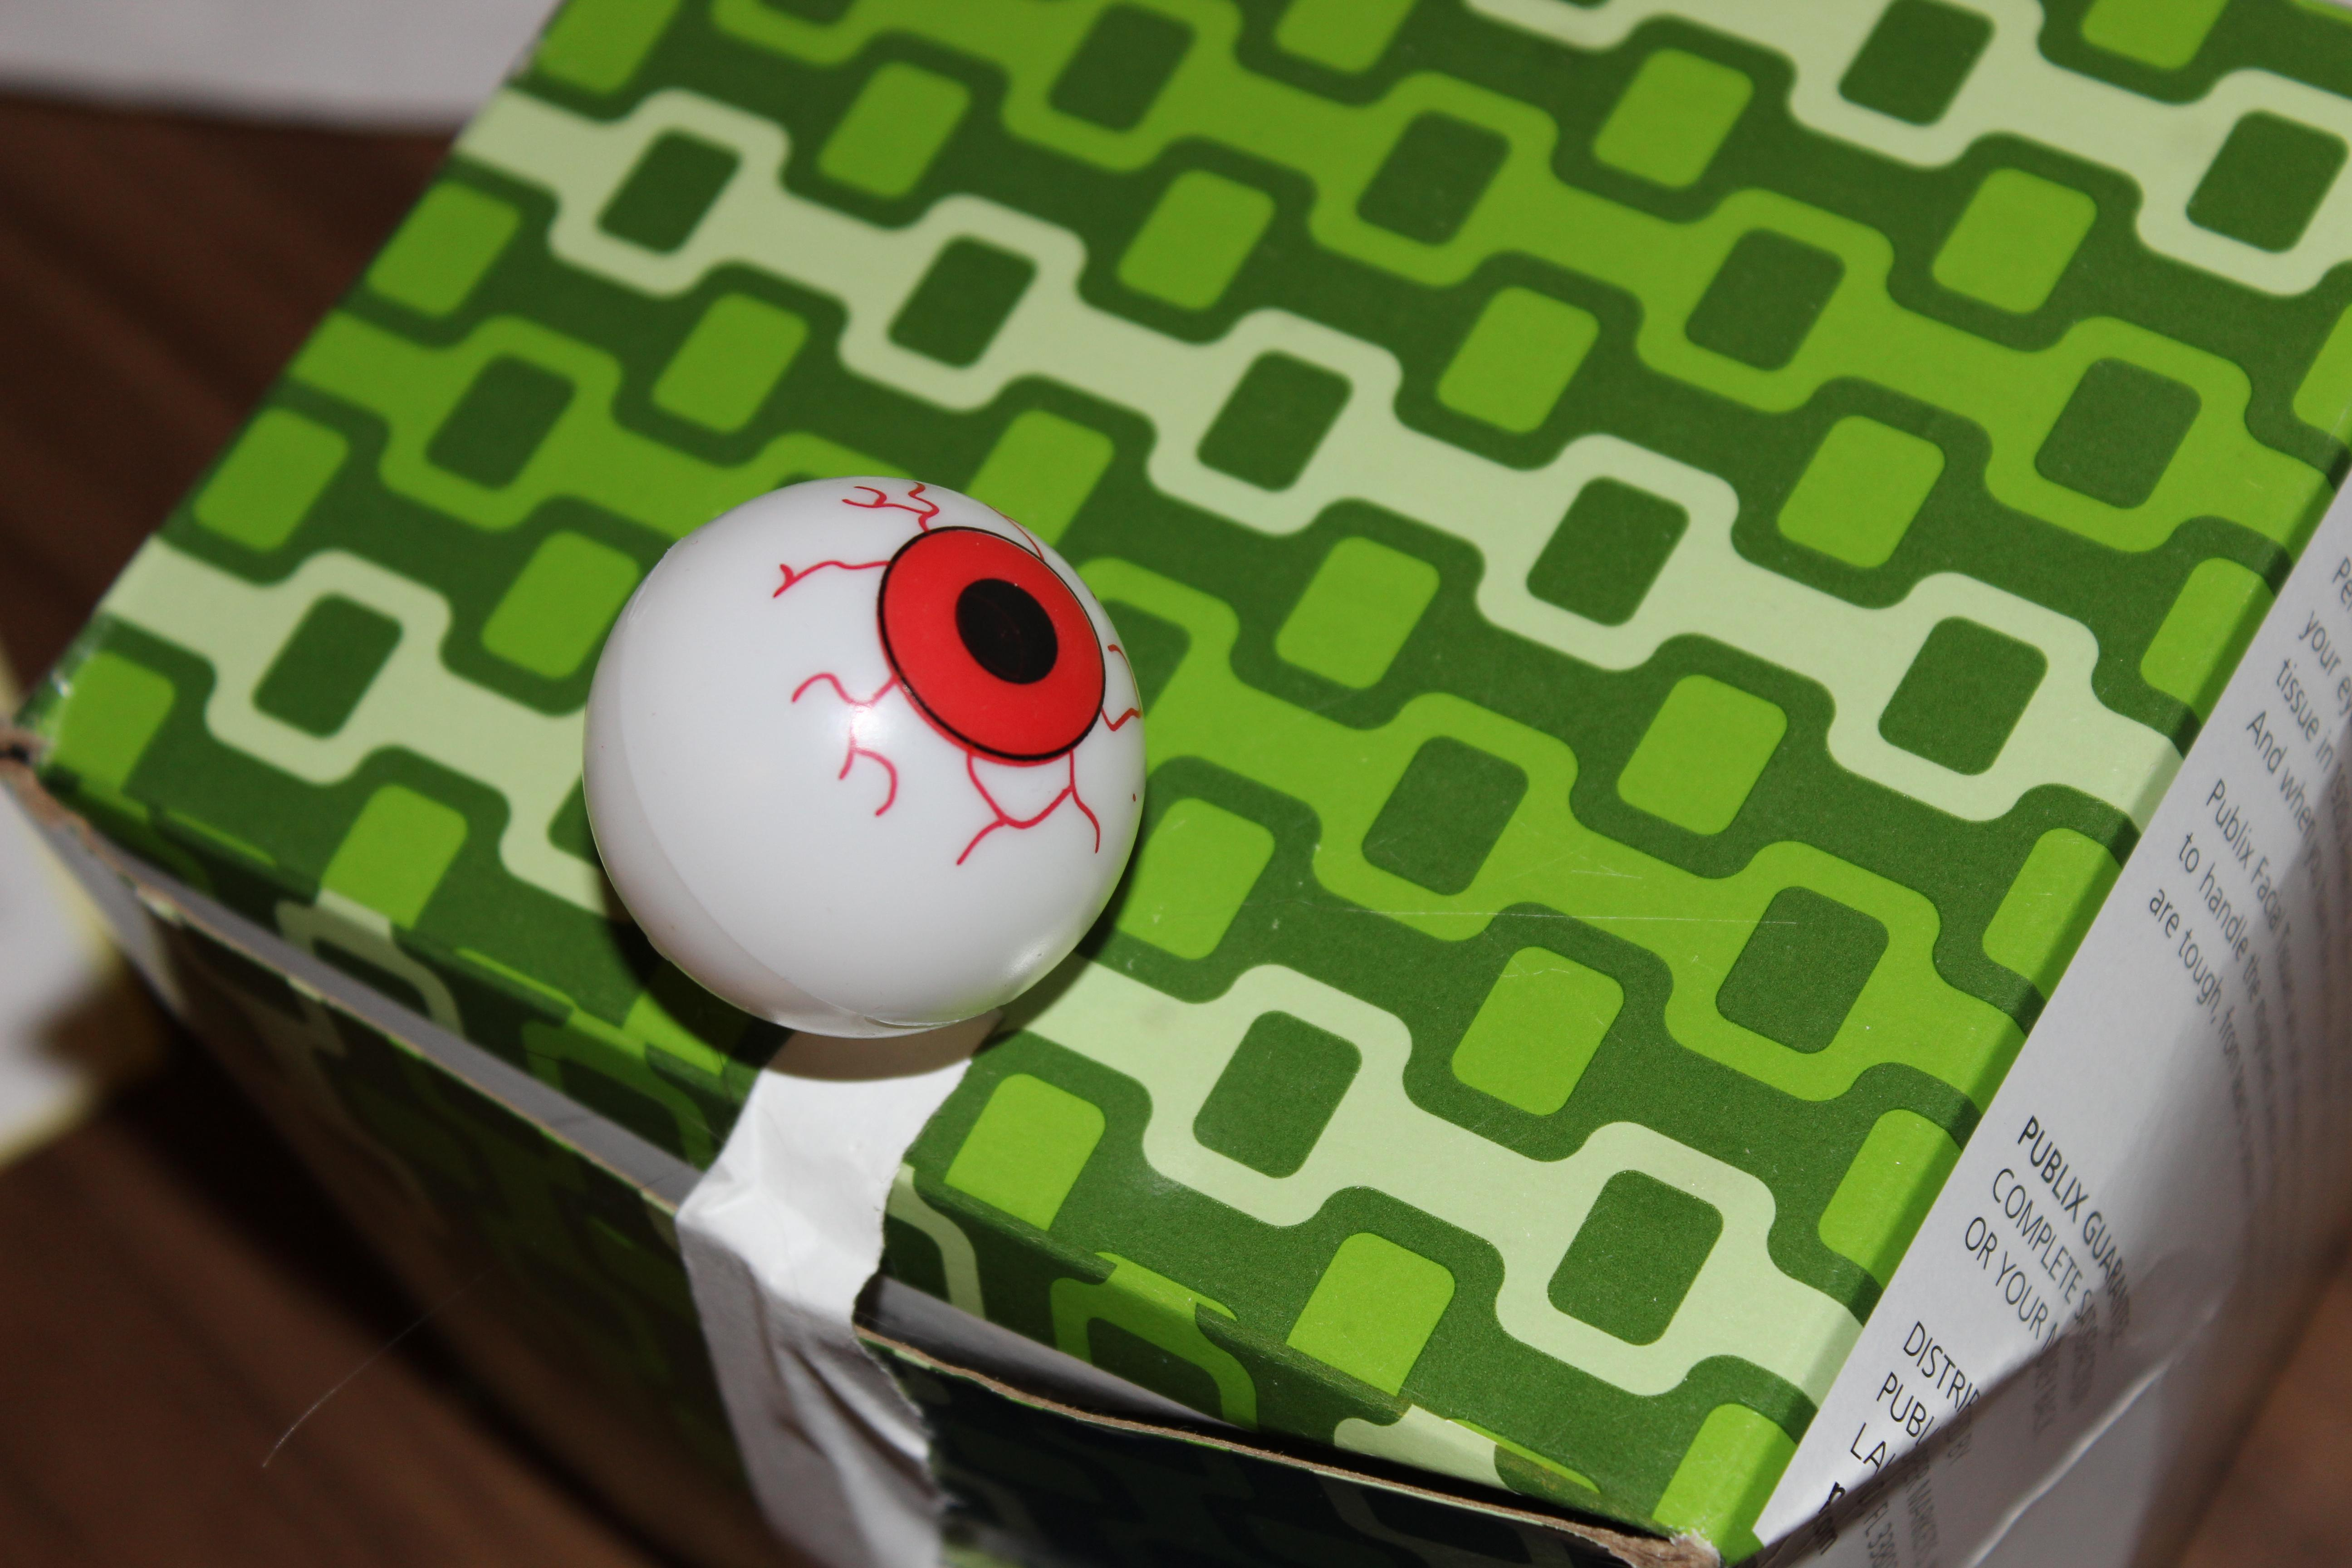eyeball: (557, 450, 1186, 1074)
